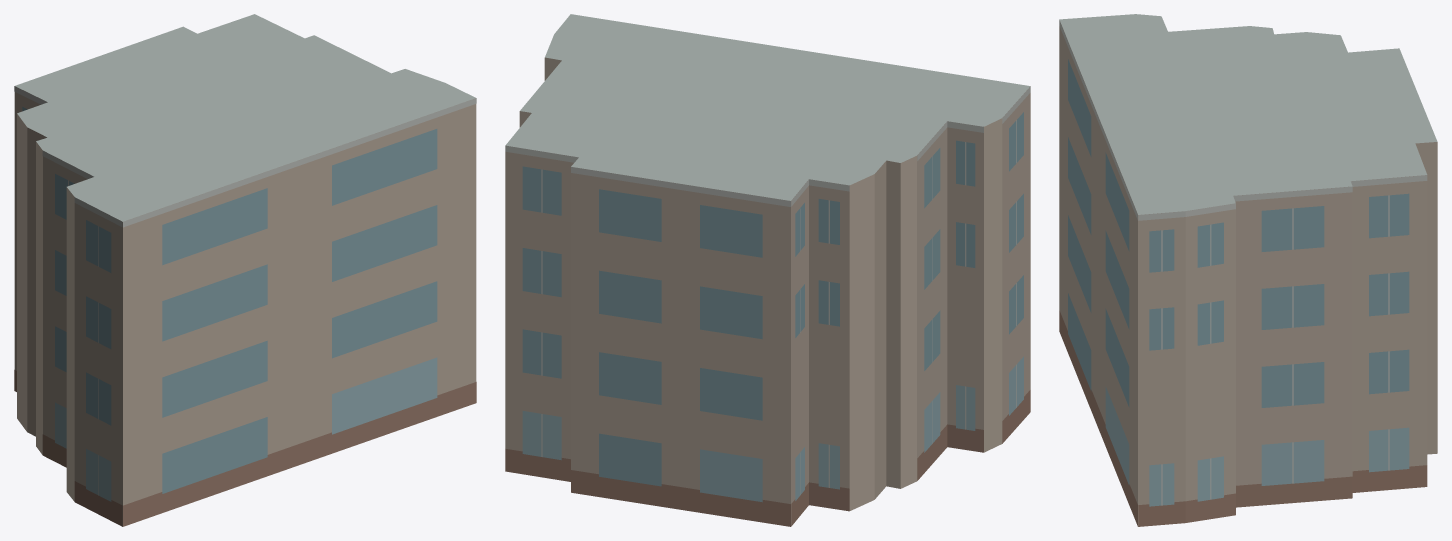
The model's file is survey-upis-32682395.glb.
3 views of the same model, side by side, from view 1: azimuth 30°, elevation 25°; view 2: azimuth 150°, elevation 25°; view 3: azimuth 270°, elevation 25° (orthographic). The views are drawn at different scales.
Visible parts, largest first — view 1: survey-upis-32682395.tmp; view 2: survey-upis-32682395.tmp; view 3: survey-upis-32682395.tmp.
Boxes of the visible parts, box(x1,y1,x2,y2) form: survey-upis-32682395.tmp: box(14, 14, 476, 526); survey-upis-32682395.tmp: box(505, 14, 1030, 526); survey-upis-32682395.tmp: box(1059, 14, 1437, 526).
Bounding box in the file's own units: 17.91 × 12.95 × 14.24.
